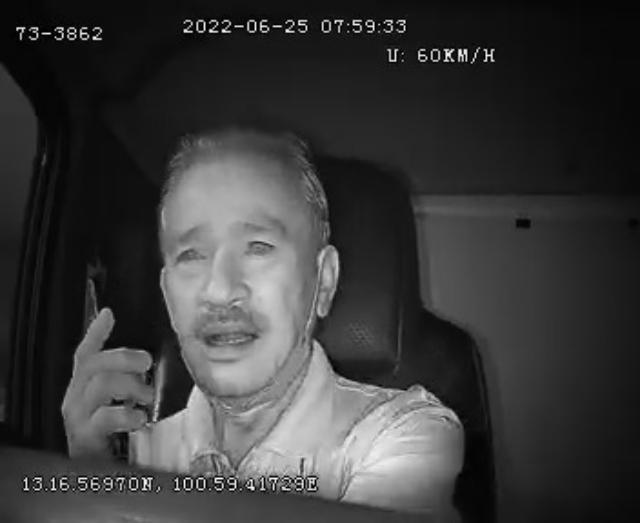PhoneUse: (76, 270, 134, 470)
SafeDriving: (168, 230, 215, 274), (238, 226, 284, 262)
